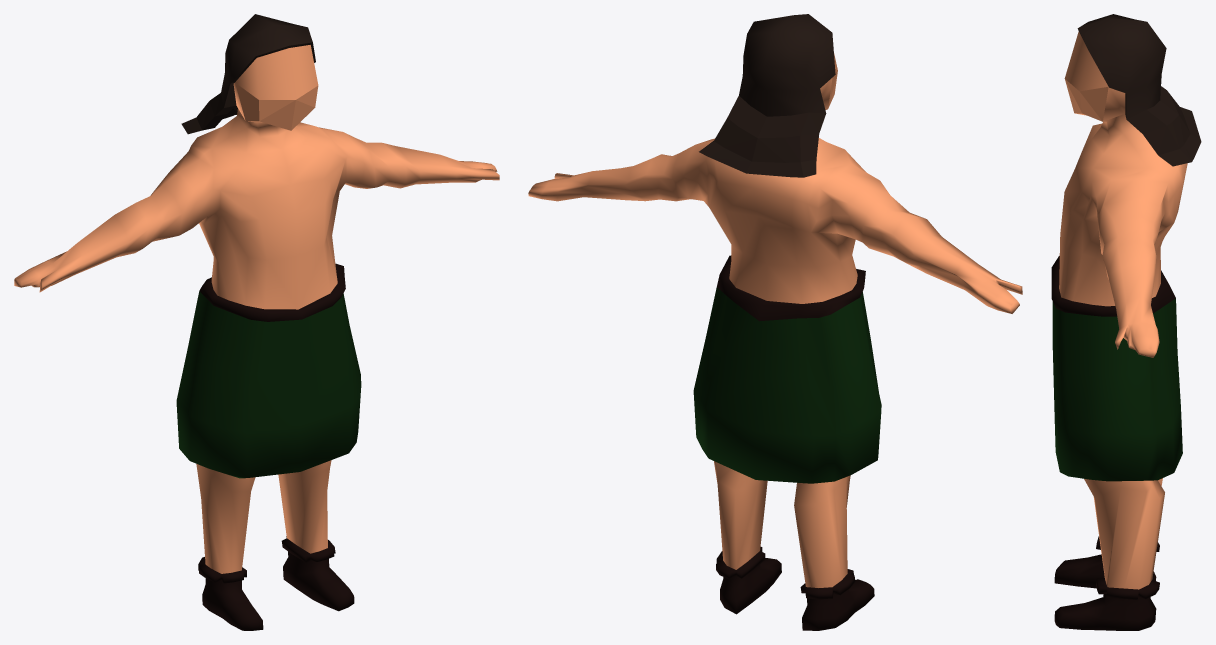
File: Romero.fbx
3 views of the same model, side by side, from view 1: azimuth 30°, elevation 25°; view 2: azimuth 150°, elevation 25°; view 3: azimuth 270°, elevation 25° (orthographic).
Parts seen in each view (by area): view 1: Box002; view 2: Box002; view 3: Box002.
Part boxes in pixels (box(x1,y1,x2,y2)): Box002: box(14, 14, 499, 630); Box002: box(528, 14, 1022, 630); Box002: box(1051, 14, 1201, 630).
Size of the model in its own units: 1.5 by 1.74 by 0.4033.
